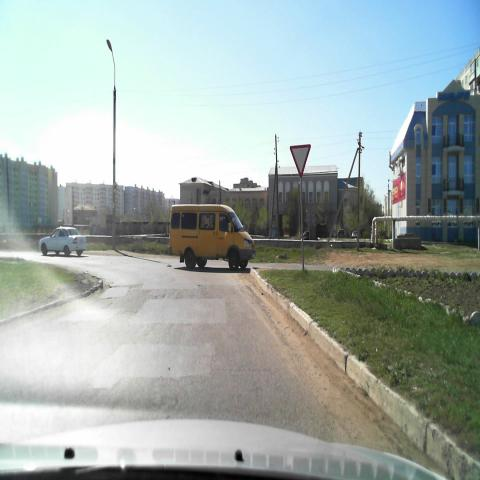2_4: (288, 145, 314, 180)
